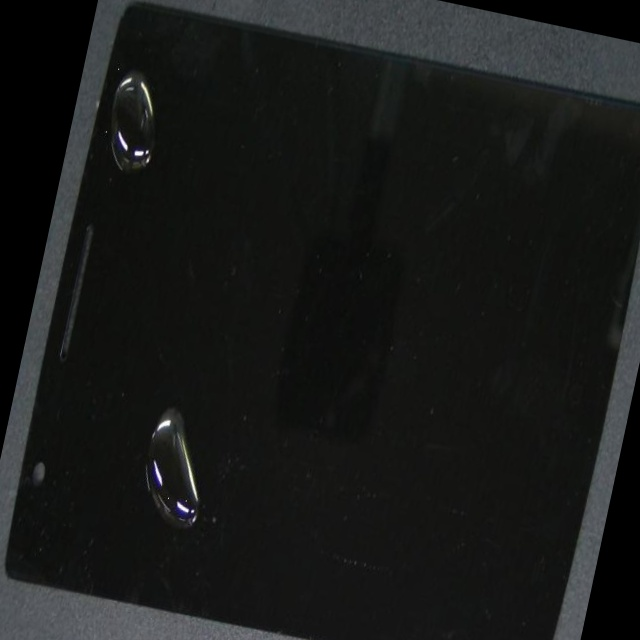oil: (64, 186, 310, 640), (80, 0, 156, 167)
